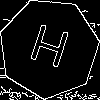H: (24, 23, 72, 78)
